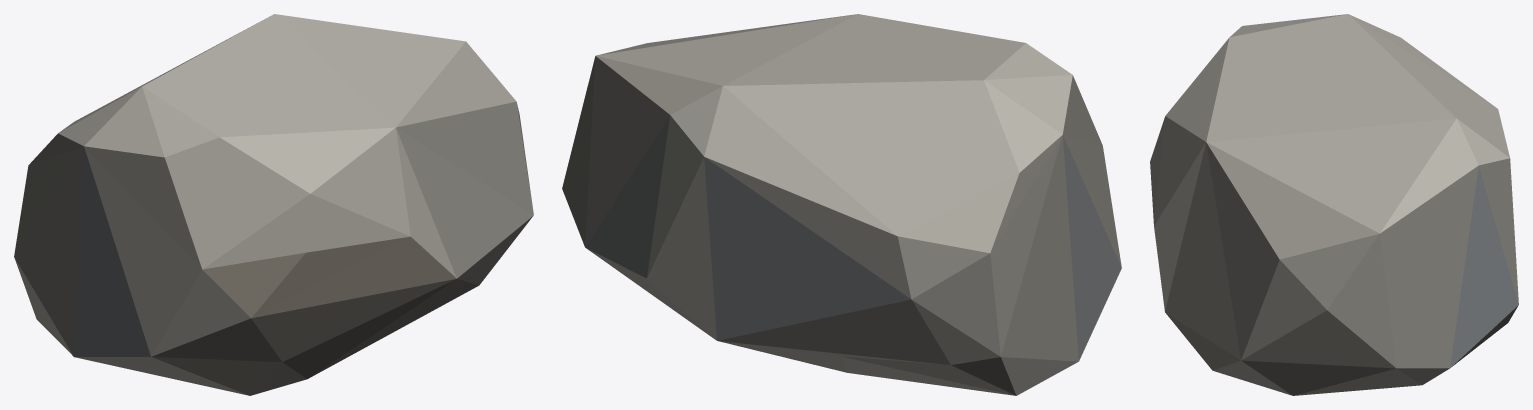
Rendered from rock-a.glb.
3 views of the same model, side by side, from view 1: azimuth 30°, elevation 25°; view 2: azimuth 150°, elevation 25°; view 3: azimuth 270°, elevation 25° (orthographic). The views are drawn at different scales.
Parts seen in each view (by area): view 1: Rock_A_Stone; view 2: Rock_A_Stone; view 3: Rock_A_Stone.
Boxes of the visible parts, box(x1,y1,x2,y2) form: Rock_A_Stone: box(14, 14, 533, 395); Rock_A_Stone: box(562, 14, 1121, 395); Rock_A_Stone: box(1150, 14, 1518, 395).
Size of the model in its own units: 0.3844 by 0.2399 by 0.2701.
Materials: 1 (1 with a texture image).
